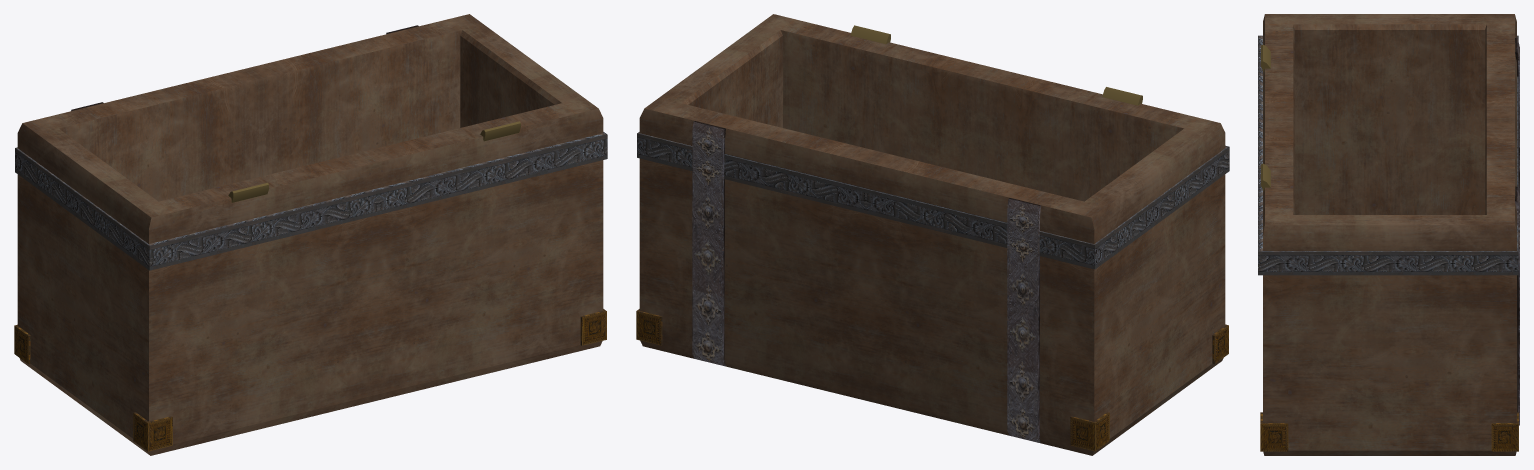
Rendered from Trunk.fbx.
3 renders of one model, left to right at view 1: azimuth 30°, elevation 25°; view 2: azimuth 150°, elevation 25°; view 3: azimuth 270°, elevation 25°, orthographic. The views are drawn at different scales.
Visible parts, largest first — view 1: Trunk; view 2: Trunk; view 3: Trunk.
Part boxes in pixels (x1,y1,x2,y2): Trunk: (14,14,607,455); Trunk: (636,14,1229,455); Trunk: (1258,14,1519,455).
Size of the model in its own units: 101 by 51.56 by 51.52.
Materials: 1 (1 with a texture image).
